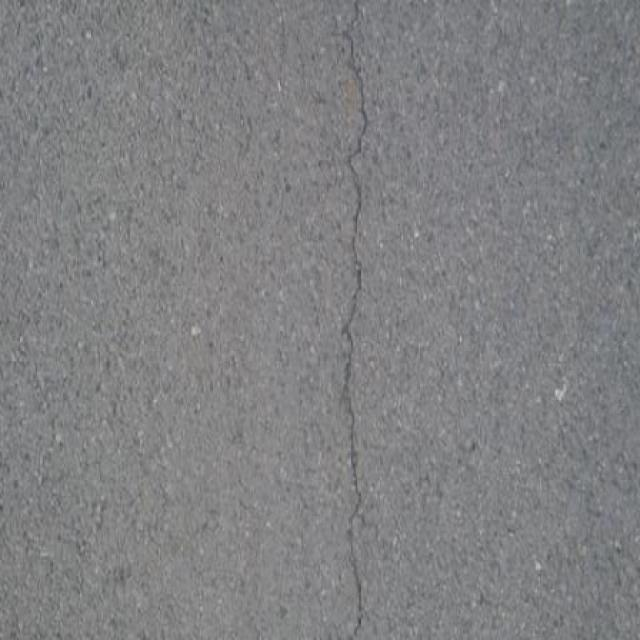Alligator Crack: (336, 0, 369, 639)
